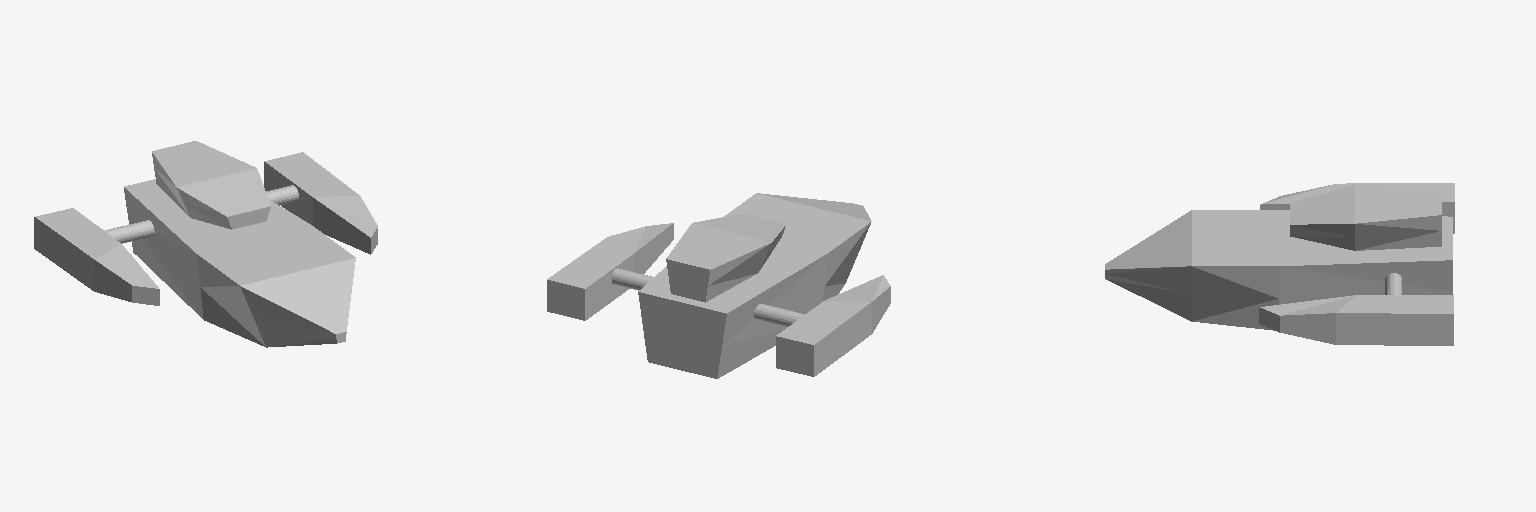
File: ShipFINAL.obj
3 views of the same model, side by side, from view 1: azimuth 30°, elevation 25°; view 2: azimuth 150°, elevation 25°; view 3: azimuth 270°, elevation 25° (orthographic).
Visible parts, largest first — view 1: ShipDone:pCube5; view 2: ShipDone:pCube5; view 3: ShipDone:pCube5.
Boxes of the visible parts, box(x1,y1,x2,y2) form: ShipDone:pCube5: box(34, 141, 377, 347); ShipDone:pCube5: box(547, 193, 890, 378); ShipDone:pCube5: box(1105, 183, 1454, 345).
Bounding box in the file's own units: 7.01 × 2.55 × 7.93.